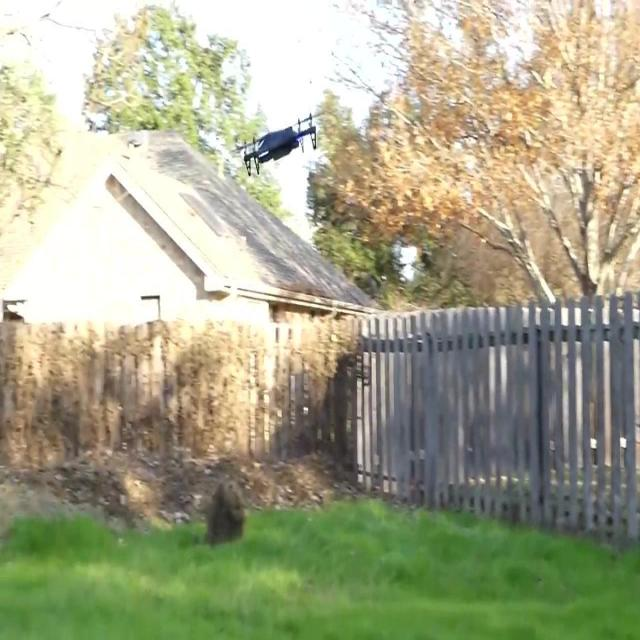drone: (240, 110, 321, 177)
